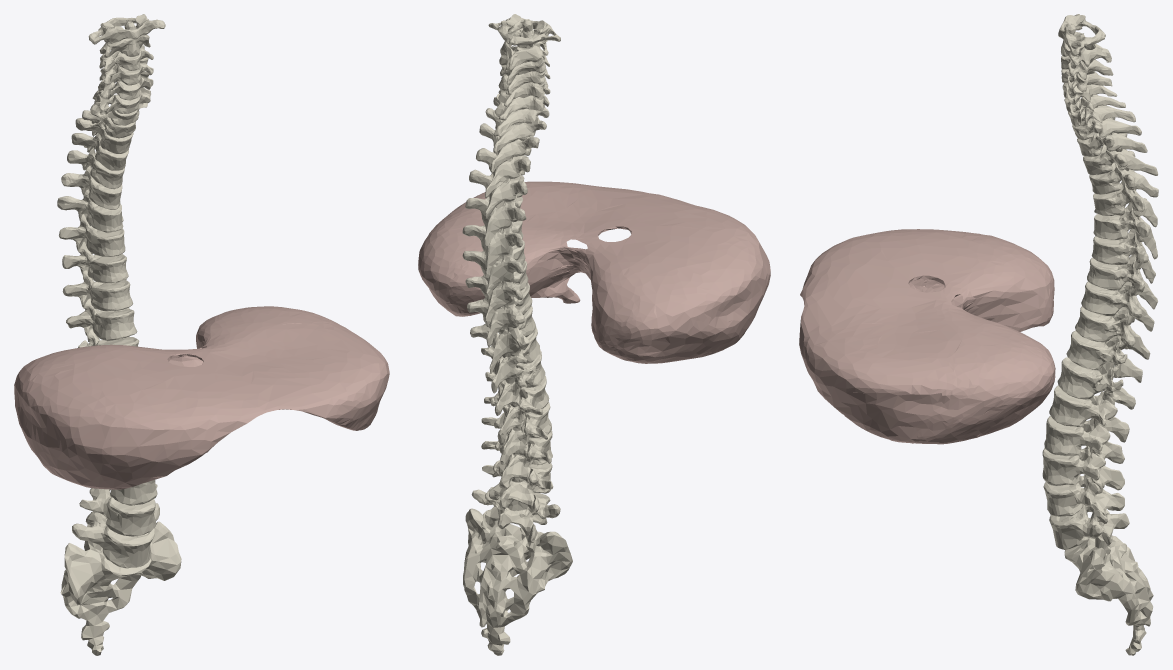
The model's file is bodyparts-spine-diaphragm.glb.
3 renders of one model, left to right at view 1: azimuth 30°, elevation 25°; view 2: azimuth 150°, elevation 25°; view 3: azimuth 270°, elevation 25°, orthographic. The views are drawn at different scales.
Parts seen in each view (by area): view 1: diaphragm, FMA16202, FMA13076, FMA13075, FMA10037, FMA10014, FMA9968, FMA9991, FMA9945, FMA12519, FMA9922, FMA9248 (+10 smaller); view 2: diaphragm, FMA16202, FMA13076, FMA13075, FMA13073, FMA13074, FMA13072, FMA10037, FMA10081, FMA10014, FMA9945, FMA9968 (+14 smaller); view 3: diaphragm, FMA16202, FMA13074, FMA13073, FMA10081, FMA13072, FMA13076, FMA13075, FMA10059, FMA10037, FMA10014, FMA9991 (+14 smaller).
Boxes of the visible parts, <box> form: diaphragm: <box>14,306,389,489</box>; FMA16202: <box>60,521,181,655</box>; FMA13076: <box>72,503,159,568</box>; FMA13075: <box>79,484,157,536</box>; FMA10037: <box>66,298,137,341</box>; FMA10014: <box>62,270,133,310</box>; FMA9968: <box>59,214,125,256</box>; FMA9991: <box>62,241,128,283</box>; FMA9945: <box>57,189,123,232</box>; FMA12519: <box>88,14,165,44</box>; FMA9922: <box>61,165,122,209</box>; FMA9248: <box>67,146,129,189</box>; diaphragm: <box>418,181,770,363</box>; FMA16202: <box>463,508,572,655</box>; FMA13076: <box>471,487,560,536</box>; FMA13075: <box>482,460,553,509</box>; FMA13073: <box>481,402,551,464</box>; FMA13074: <box>481,430,552,488</box>; FMA13072: <box>484,375,549,444</box>; FMA10037: <box>470,306,535,373</box>; FMA10081: <box>485,350,545,415</box>; FMA10014: <box>467,282,532,347</box>; FMA9945: <box>462,220,523,278</box>; FMA9968: <box>462,239,525,300</box>; diaphragm: <box>799,229,1055,444</box>; FMA16202: <box>1064,509,1153,655</box>; FMA13074: <box>1042,446,1124,493</box>; FMA13073: <box>1044,416,1124,468</box>; FMA10081: <box>1057,357,1135,409</box>; FMA13072: <box>1049,385,1129,442</box>; FMA13076: <box>1049,504,1129,549</box>; FMA13075: <box>1043,475,1124,516</box>; FMA10059: <box>1066,330,1142,382</box>; FMA10037: <box>1075,306,1150,359</box>; FMA10014: <box>1081,281,1154,331</box>; FMA9991: <box>1087,254,1157,309</box>.
Bounding box in the file's own units: 1.02 × 1.96 × 1.01.
